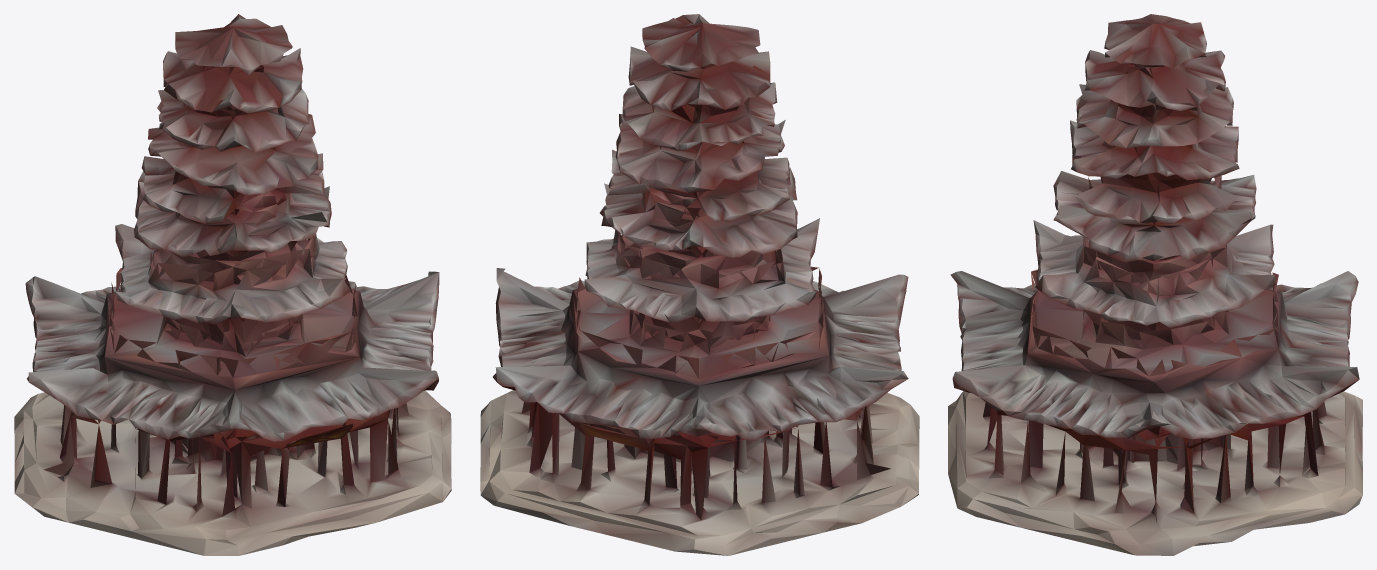
The model's file is lib_pagoda_red.vc.glb.
The picture shows the model from 3 angles, left to right: view 1: azimuth 30°, elevation 25°; view 2: azimuth 150°, elevation 25°; view 3: azimuth 270°, elevation 25°; orthographic projection.
Parts seen in each view (by area): view 1: lib_pagoda_red; view 2: lib_pagoda_red; view 3: lib_pagoda_red.
Part boxes in pixels (left/top/right/bottom): lib_pagoda_red: left=14, top=14, right=451, bottom=555; lib_pagoda_red: left=480, top=14, right=919, bottom=555; lib_pagoda_red: left=948, top=14, right=1362, bottom=555.
Bounding box in the file's own units: 2 × 1.96 × 1.72.
